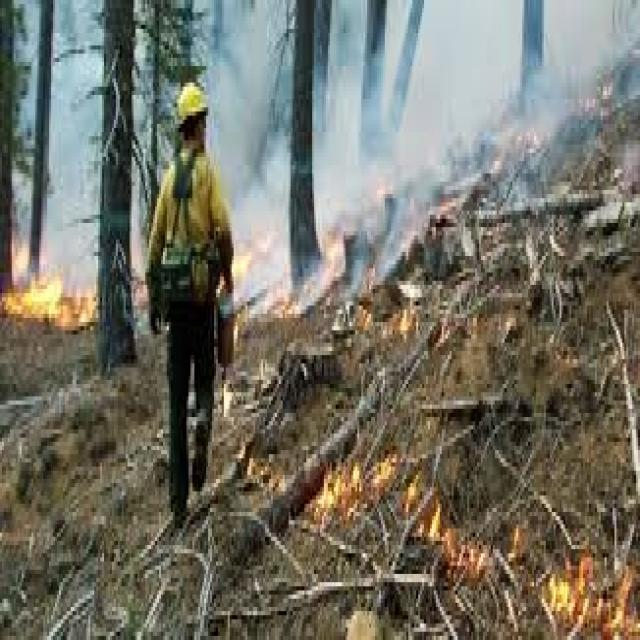Smoke: (1, 0, 640, 294), (240, 252, 289, 294), (620, 147, 640, 193), (295, 280, 324, 301)
